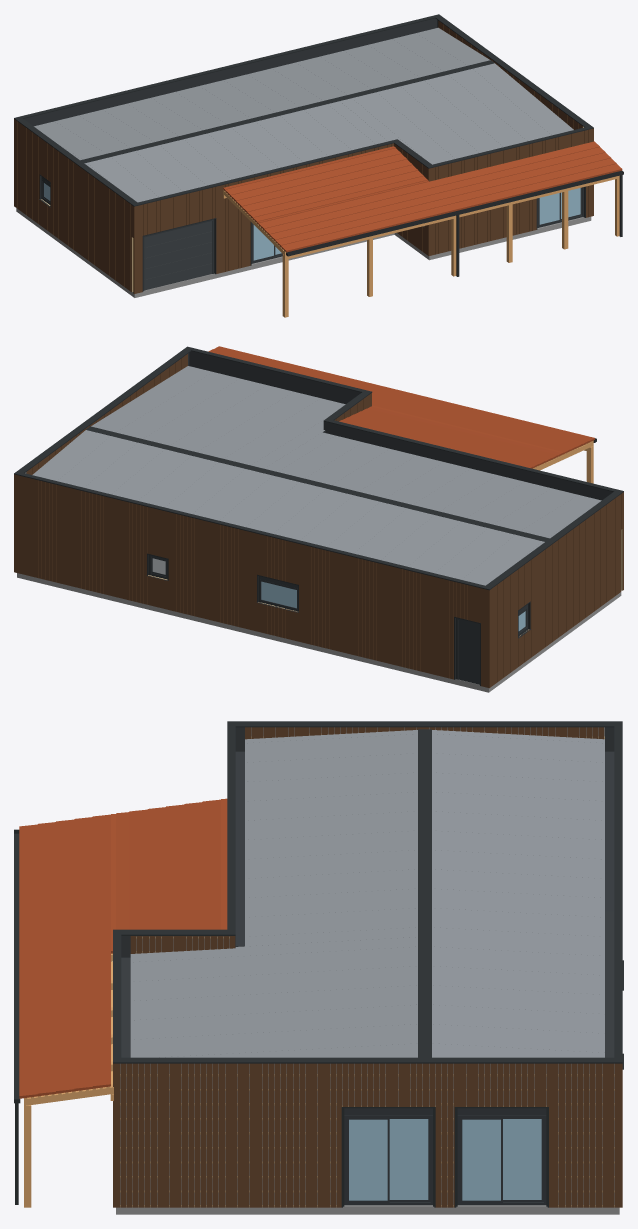
File: Casa_TorresVedras_Completa.glb
3 renders of one model, top to bottom at view 1: azimuth 30°, elevation 25°; view 2: azimuth 150°, elevation 25°; view 3: azimuth 270°, elevation 25°, orthographic. The views are drawn at different scales.
Visible parts, largest first — view 1: Telha | pérgola, Forro Tremolo 22x135 (A) | Fachada Oeste, Forro Tremolo 22x135 (A) | Fachada Sul 2, Forro Tremolo 22x135 (A) | Fachada Sul, Caleira oculta N 0.1, M1 Garagem — Portão seccionado 3,00 x 2,20 | painel, Fundação | Laje, Painel 5 ondas S x12.39, Painel 5 ondas S x14.39, Painel 5 ondas S x15.39, Painel 5 ondas S x13.39, Painel 5 ondas S x11.39 (+36 smaller); view 2: Forro Tremolo 22x135 (A) | Fachada Norte, Forro Tremolo 22x135 (A) | Fachada Oeste, Telha | pérgola, Caleira oculta S 0.1, Fundação | Laje, Caleira oculta S 10.9, Cumeeira 6.75, Painel 5 ondas S x14.39, Painel 5 ondas S x12.39, Painel 5 ondas S x13.39, Painel 5 ondas S x15.39, Painel 5 ondas S x11.39 (+32 smaller); view 3: Forro Tremolo 22x135 (A) | Fachada Este, Telha | pérgola, M12 Quarto 1 e 2 — Janela de correr 2,00 x 2,20 | vidro, M14 Quarto 1 e 2 — Janela de correr 2,00 x 2,20 | vidro, Membrana Traspir 95 | Fachada Este, Painel 5 ondas S x11.39, Painel 5 ondas S x14.39, Painel 5 ondas S x12.39, Painel 5 ondas S x13.39, Painel 5 ondas S x15.39, Cumeeira 6.75, Fundação | Laje (+55 smaller).
Part boxes in pixels (<box>): Telha | pérgola: <box>223,141,622,252</box>; Forro Tremolo 22x135 (A) | Fachada Oeste: <box>14,119,133,293</box>; Forro Tremolo 22x135 (A) | Fachada Sul 2: <box>134,143,393,293</box>; Forro Tremolo 22x135 (A) | Fachada Sul: <box>428,128,593,255</box>; Caleira oculta N 0.1: <box>24,18,438,126</box>; M1 Garagem — Portão seccionado 3,00 x 2,20 | painel: <box>144,221,212,290</box>; Fundação | Laje: <box>16,208,591,297</box>; Painel 5 ondas S x12.39: <box>376,86,478,158</box>; Painel 5 ondas S x14.39: <box>424,74,527,146</box>; Painel 5 ondas S x15.39: <box>449,69,551,140</box>; Painel 5 ondas S x13.39: <box>400,80,503,152</box>; Painel 5 ondas S x11.39: <box>352,92,454,164</box>; Forro Tremolo 22x135 (A) | Fachada Norte: <box>14,474,489,688</box>; Forro Tremolo 22x135 (A) | Fachada Oeste: <box>490,492,623,687</box>; Telha | pérgola: <box>208,346,594,468</box>; Caleira oculta S 0.1: <box>323,421,612,500</box>; Fundação | Laje: <box>17,573,621,692</box>; Caleira oculta S 10.9: <box>188,351,361,404</box>; Cumeeira 6.75: <box>86,426,549,541</box>; Painel 5 ondas S x14.39: <box>143,378,266,445</box>; Painel 5 ondas S x12.39: <box>197,391,320,458</box>; Painel 5 ondas S x13.39: <box>170,385,293,452</box>; Painel 5 ondas S x15.39: <box>116,372,239,438</box>; Painel 5 ondas S x11.39: <box>224,398,345,465</box>; Forro Tremolo 22x135 (A) | Fachada Este: <box>114,1063,621,1207</box>; Telha | pérgola: <box>19,798,227,1098</box>; M12 Quarto 1 e 2 — Janela de correr 2,00 x 2,20 | vidro: <box>349,1119,428,1200</box>; M14 Quarto 1 e 2 — Janela de correr 2,00 x 2,20 | vidro: <box>462,1119,541,1200</box>; Membrana Traspir 95 | Fachada Este: <box>120,1064,614,1204</box>; Painel 5 ondas S x11.39: <box>130,946,417,981</box>; Painel 5 ondas S x14.39: <box>130,1004,417,1039</box>; Painel 5 ondas S x12.39: <box>130,966,417,1000</box>; Painel 5 ondas S x13.39: <box>130,985,417,1020</box>; Painel 5 ondas S x15.39: <box>130,1024,417,1057</box>; Cumeeira 6.75: <box>418,729,431,1057</box>; Fundação | Laje: <box>116,1205,619,1214</box>.
Size of the model in its own units: 17.66 by 3.7 by 13.32.
